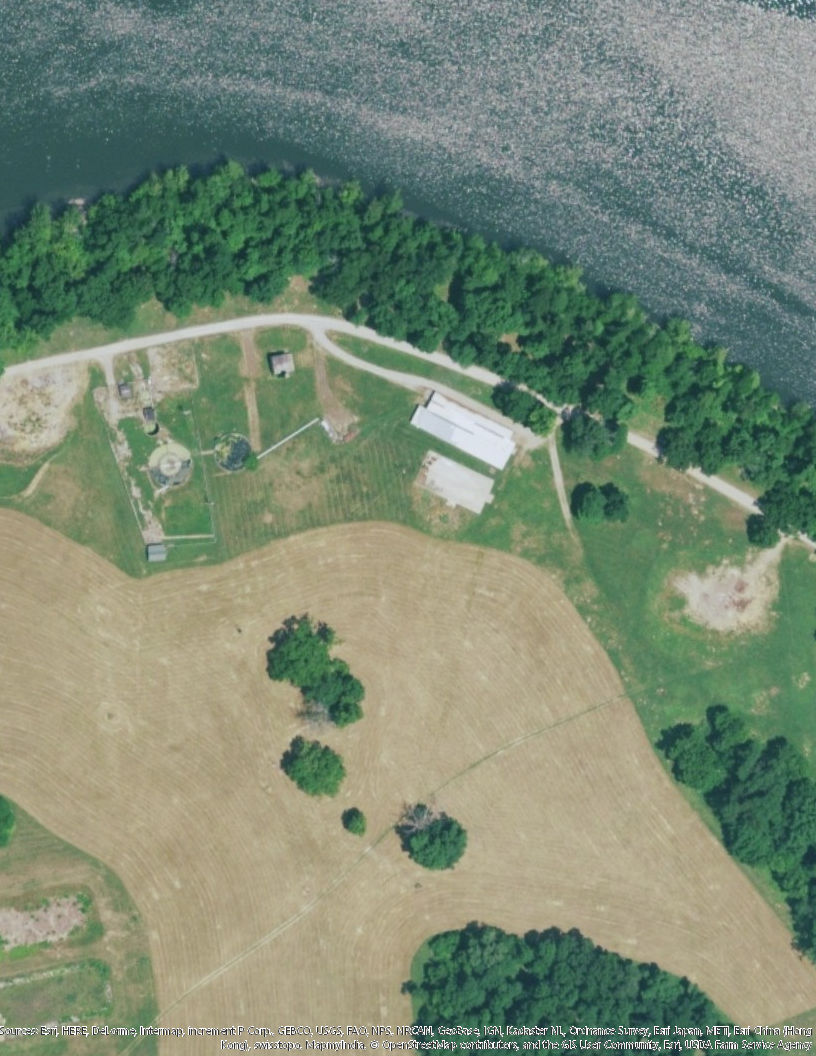cafo: (406, 382, 528, 471)
